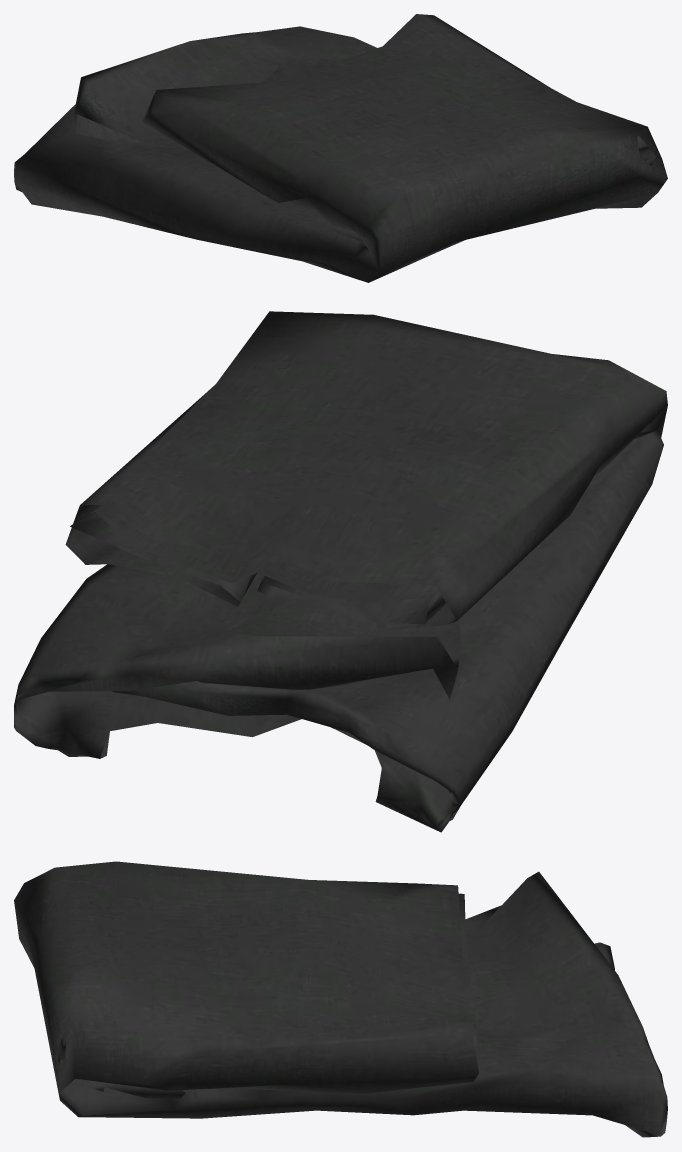
The model's file is hvfold_cloth4555.glb.
The picture shows the model from 3 angles, top to bottom: view 1: azimuth 30°, elevation 25°; view 2: azimuth 150°, elevation 25°; view 3: azimuth 270°, elevation 25°; orthographic projection. The views are drawn at different scales.
Visible parts, largest first — view 1: BP_cloth4555; view 2: BP_cloth4555; view 3: BP_cloth4555.
Boxes of the visible parts, box(x1,y1,x2,y2) form: BP_cloth4555: box(14, 14, 667, 282); BP_cloth4555: box(14, 311, 667, 832); BP_cloth4555: box(14, 861, 667, 1137).
Bounding box in the file's own units: 0.2714 × 0.1104 × 0.3479.
1 material, 1 textured.
